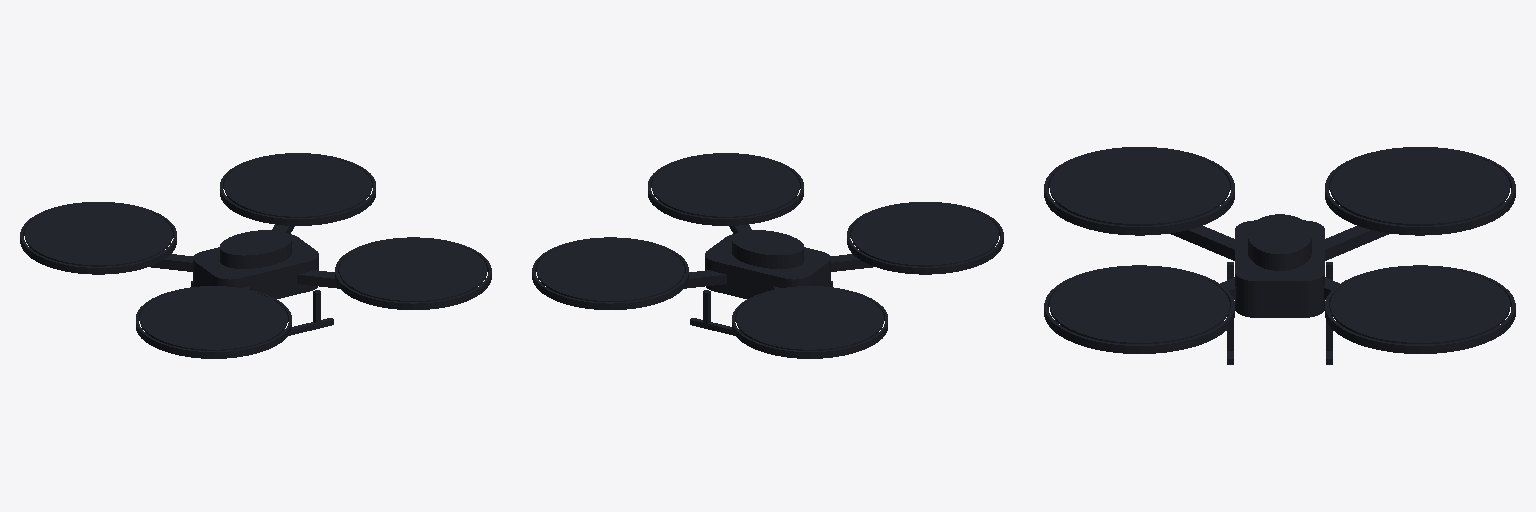
robot.urdf — quadcopter:
<?xml version="1.0"?>
<robot name="quadcopter">
  <material name="body"><color rgba="0.16 0.17 0.2 1"/></material>
  <link name="base_link">
    <inertial>
      <origin xyz="0 0 0"/>
      <mass value="1.0"/>
      <inertia ixx="0.012" iyy="0.012" izz="0.022" ixy="0" ixz="0" iyz="0"/>
    </inertial>
    <visual>
      <origin xyz="0 0 0"/>
      <geometry><mesh filename="quadcopter.stl" scale="0.001 0.001 0.001"/></geometry>
      <material name="body"/>
    </visual>
    <collision>
      <origin xyz="0 0 0"/>
      <geometry><cylinder radius="0.320" length="0.10"/></geometry>
    </collision>
  </link>
</robot>

--- Facts derived from the render (not from the file) ---
Views: 3 orthographic renders of the robot side by side, from view 1: azimuth 30°, elevation 25°; view 2: azimuth 150°, elevation 25°; view 3: azimuth 270°, elevation 25°.
Model quadcopter with 1 links and 0 joints (none), rooted at base_link, posed every joint at zero.
Visible links, largest first — view 1: base_link; view 2: base_link; view 3: base_link.
Link boxes in pixels (box(x1,y1,x2,y2)): base_link: box(20, 153, 491, 358); base_link: box(532, 153, 1003, 358); base_link: box(1044, 147, 1515, 364).
Size in the robot's own frame: 0.5231 by 0.5225 by 0.1192 metres.
Meshes: 1 distinct files referenced, 1 mesh visuals loaded (1 binary STL).
